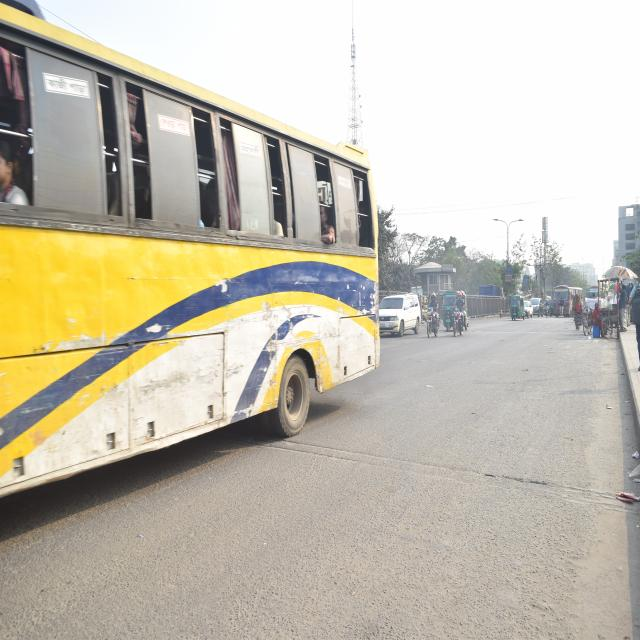bus: (0, 32, 381, 513), (551, 287, 580, 320)
car: (379, 288, 427, 338), (530, 291, 546, 317), (520, 300, 536, 321)
motorbike: (424, 292, 442, 342), (447, 298, 466, 336)
